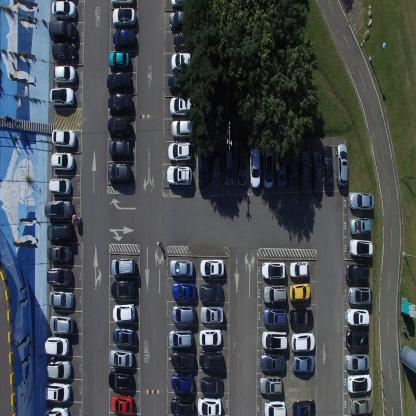car: (48, 20, 77, 42), (44, 380, 71, 402), (322, 144, 334, 192), (348, 190, 374, 212), (166, 164, 192, 186), (51, 0, 77, 22), (261, 330, 288, 351), (167, 72, 194, 93), (336, 141, 348, 188), (290, 331, 315, 353), (171, 304, 196, 326), (168, 10, 193, 32), (169, 95, 195, 116), (107, 94, 133, 115), (46, 358, 72, 379), (51, 42, 77, 63), (262, 145, 274, 190), (199, 281, 223, 303), (199, 349, 223, 371), (168, 140, 192, 162), (112, 7, 136, 29), (50, 312, 74, 334), (347, 372, 372, 393), (111, 302, 136, 323), (108, 369, 133, 390), (52, 64, 77, 85), (50, 86, 75, 107), (51, 128, 76, 149), (110, 256, 136, 276), (106, 72, 132, 92), (46, 266, 72, 286), (171, 372, 194, 394), (345, 328, 369, 349), (346, 306, 370, 327), (310, 152, 322, 194), (44, 200, 72, 218), (46, 222, 74, 240), (260, 352, 285, 372), (172, 282, 197, 302), (168, 328, 193, 348), (171, 350, 196, 370), (111, 279, 136, 299), (107, 162, 132, 182), (44, 336, 69, 356), (48, 289, 74, 308), (198, 144, 208, 193), (350, 394, 372, 416), (287, 145, 298, 189), (263, 283, 286, 304), (171, 119, 194, 140), (289, 306, 313, 326), (348, 285, 372, 305), (345, 262, 369, 282), (349, 238, 373, 258), (200, 258, 224, 278), (170, 258, 194, 278), (112, 325, 136, 345), (110, 348, 134, 368), (112, 30, 136, 50), (261, 261, 286, 280), (345, 352, 370, 371), (197, 396, 222, 415), (170, 396, 195, 415), (107, 116, 132, 135), (50, 151, 75, 170), (47, 243, 72, 262), (259, 374, 282, 394), (200, 305, 223, 325), (170, 52, 193, 72), (48, 177, 72, 196), (250, 144, 260, 189), (292, 354, 314, 374), (300, 151, 310, 195), (111, 394, 133, 414), (263, 307, 286, 326), (349, 216, 372, 235), (200, 375, 223, 394), (108, 139, 131, 158), (292, 398, 316, 416), (276, 145, 286, 188), (289, 282, 310, 302), (224, 147, 234, 189), (172, 31, 194, 50), (108, 51, 130, 70), (199, 328, 222, 346), (211, 148, 221, 189), (237, 146, 247, 186), (263, 400, 286, 416), (288, 261, 308, 279), (42, 405, 70, 415), (170, 0, 193, 10), (111, 0, 133, 7)
